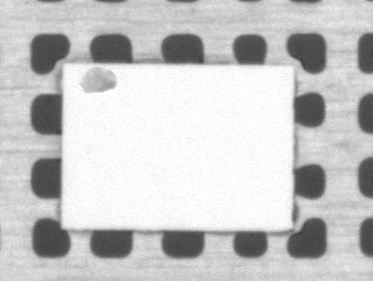DIE_INK: (100, 46, 161, 73)
